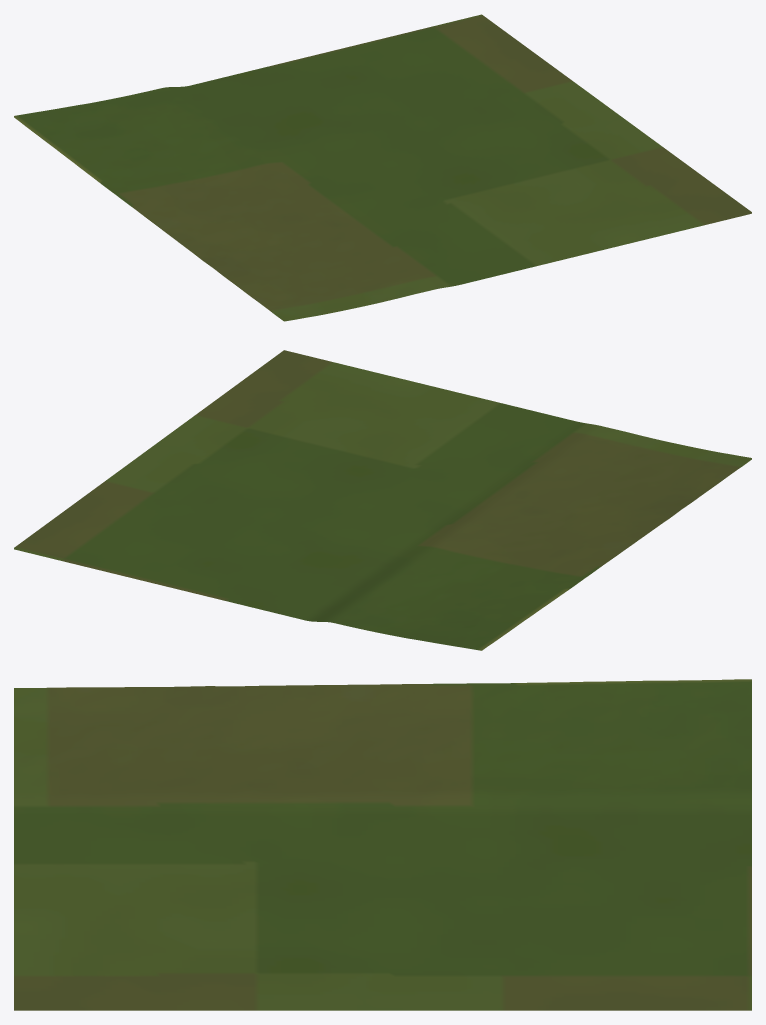
Rendered from land_n_01_03.glb.
3 renders of one model, top to bottom at view 1: azimuth 30°, elevation 25°; view 2: azimuth 150°, elevation 25°; view 3: azimuth 270°, elevation 25°, orthographic. The views are drawn at different scales.
Parts seen in each view (by area): view 1: land_n_01_03; view 2: land_n_01_03; view 3: land_n_01_03.
Boxes of the visible parts, x1,y1,x2,y2 form: land_n_01_03: (14,14,751,321); land_n_01_03: (14,350,751,650); land_n_01_03: (14,679,751,1010).
Size of the model in its own units: 480 by 13.93 by 480.
